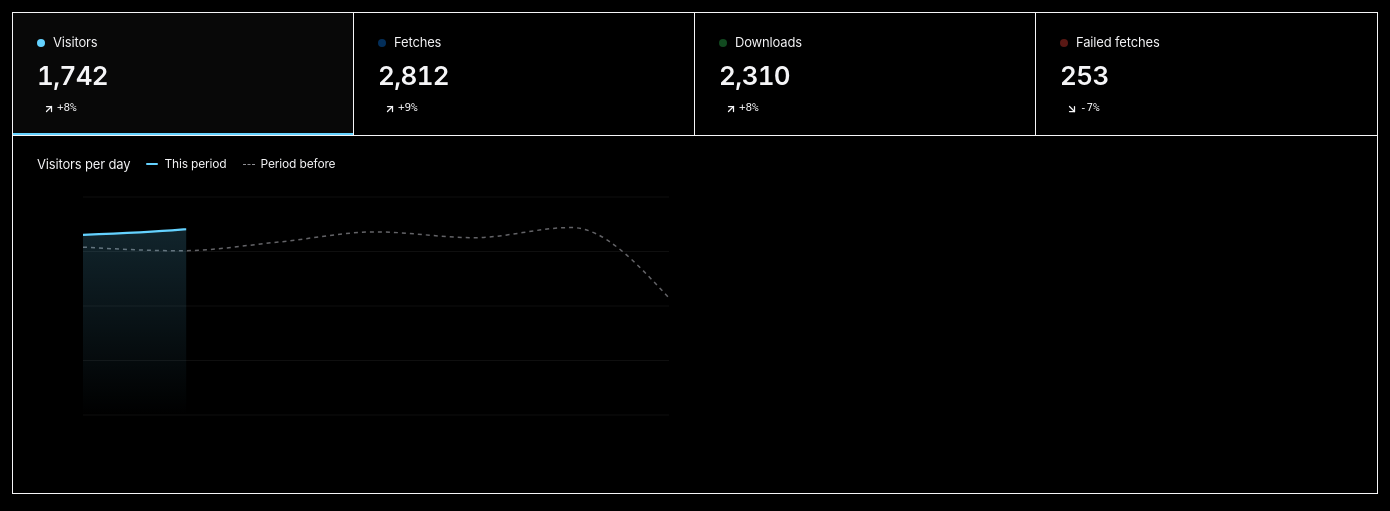
Test: four metric tabs carry the totals and deltas; the active one is selected and names the legend
Check: the text "Visitors" is shown, box [37,33,98,52]
Check: the text "1,742" is shown, box [37,62,108,88]
Click the tab "Fetches 2,812 +9%" at (418, 42), box [354,13,695,134]
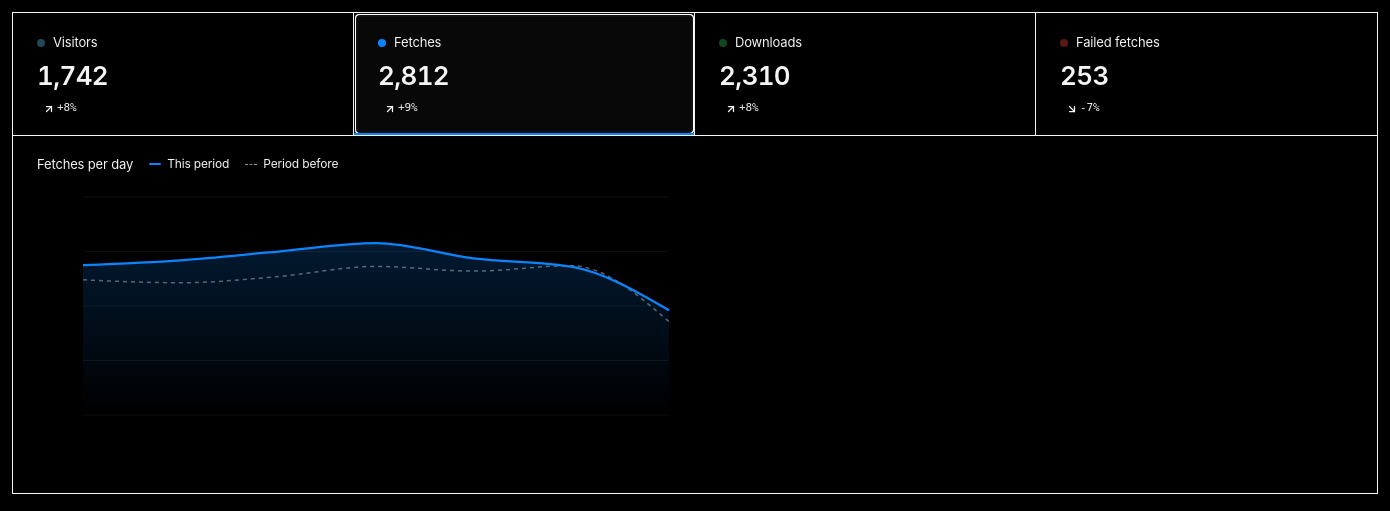
Check: the text "Fetches per day" is shown, box [37,156,133,173]
